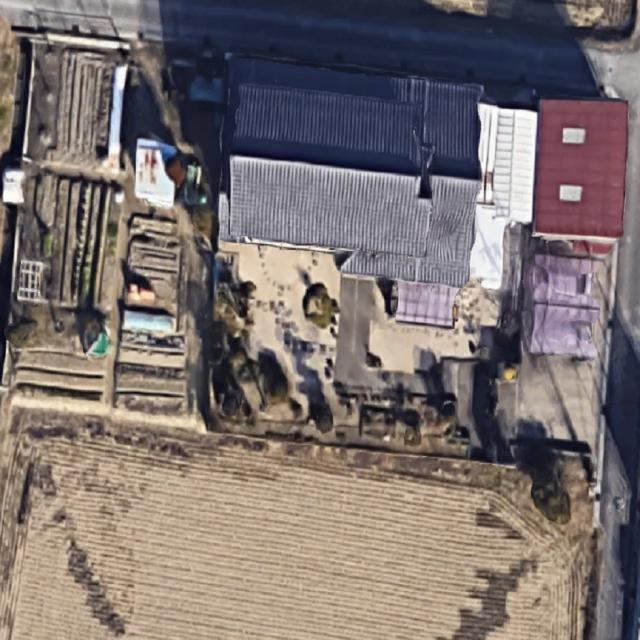Batiment: (224, 62, 482, 287), (534, 100, 628, 236), (522, 237, 618, 359)
